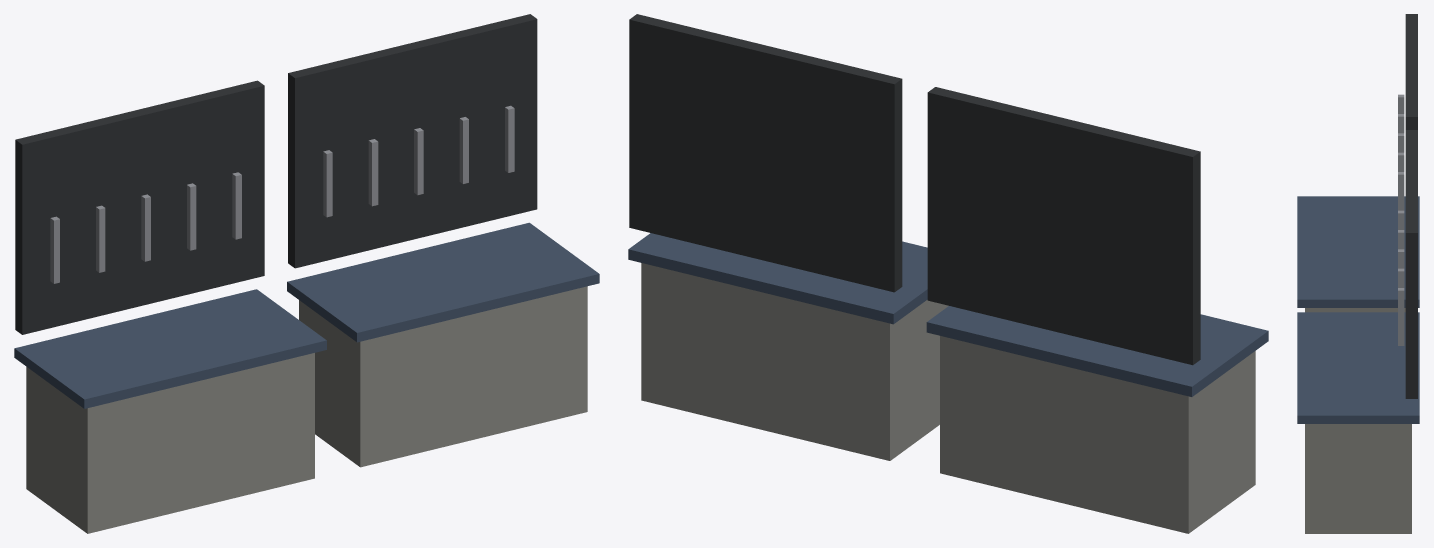
File: ms1_bench.obj
3 views of the same model, side by side, from view 1: azimuth 30°, elevation 25°; view 2: azimuth 150°, elevation 25°; view 3: azimuth 270°, elevation 25° (orthographic). The views are drawn at different scales.
Parts seen in each view (by area): view 1: ms1_bench; view 2: ms1_bench; view 3: ms1_bench.
Part boxes in pixels (x1,y1,x2,y2): ms1_bench: (14, 14, 599, 533); ms1_bench: (628, 14, 1268, 533); ms1_bench: (1297, 14, 1419, 533).
Size of the model in its own units: 3.4 by 2.2 by 0.8.
